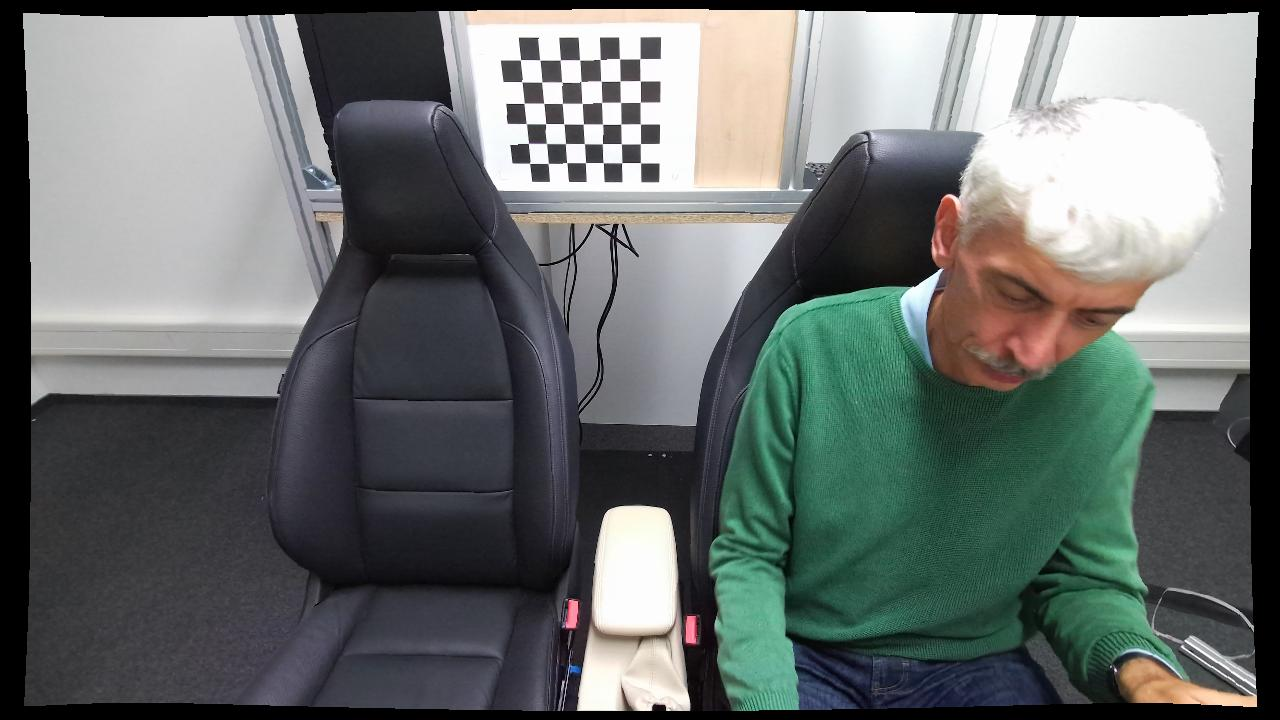SafeDriving: (693, 92, 1219, 706)
